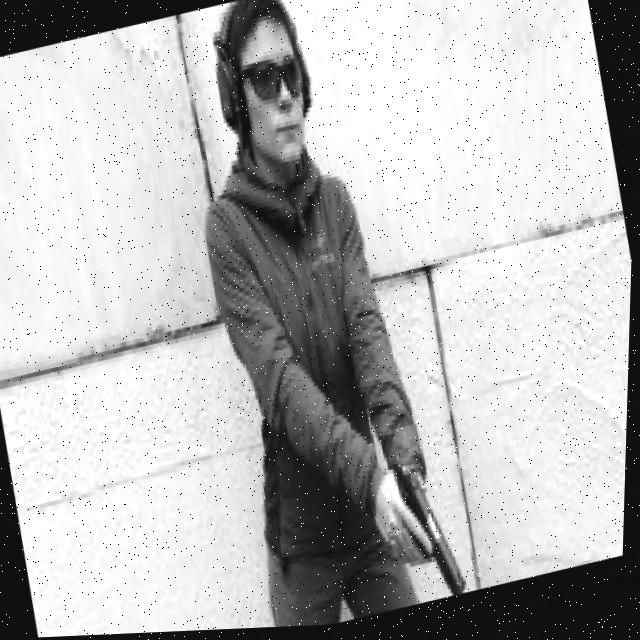pistol: (399, 464, 471, 609)
